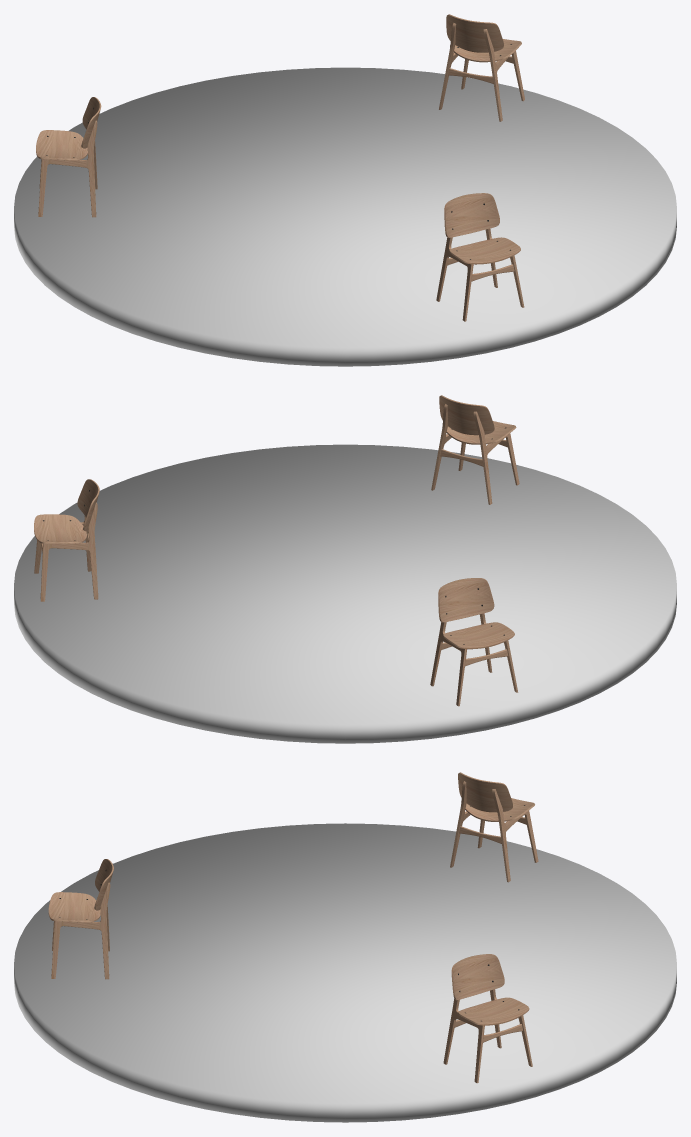
Rendered from design-chair-bake-2-platform.glb.
3 views of the same model, one above another, from view 1: azimuth 30°, elevation 25°; view 2: azimuth 150°, elevation 25°; view 3: azimuth 270°, elevation 25° (orthographic).
Parts seen in each view (by area): view 1: Circle.013, Plane.001, Plane.005, Plane.002, Cube.006, Plane, Cube.003, Cube, Plane.004, Plane.003; view 2: Circle.013, Plane.003, Cube.006, Cube, Plane.004, Plane.001, Plane.002, Cube.003, Plane, Plane.005; view 3: Circle.013, Plane.005, Cube.003, Plane, Plane.003, Plane.004, Cube, Cube.006, Plane.002, Plane.001.
Boxes of the visible parts, left/top/right/bottom form: Circle.013: left=14, top=67, right=676, bottom=366; Plane.001: left=444, top=193, right=499, bottom=237; Plane.005: left=446, top=14, right=503, bottom=52; Plane.002: left=36, top=130, right=87, bottom=160; Cube.006: left=439, top=23, right=524, bottom=121; Plane: left=449, top=237, right=520, bottom=264; Cube.003: left=38, top=120, right=97, bottom=217; Cube: left=436, top=228, right=524, bottom=321; Plane.004: left=450, top=39, right=521, bottom=62; Plane.003: left=81, top=97, right=101, bottom=148; Circle.013: left=14, top=444, right=676, bottom=743; Plane.003: left=438, top=578, right=494, bottom=622; Cube.006: left=34, top=502, right=98, bottom=601; Cube: left=431, top=404, right=519, bottom=504; Plane.004: left=34, top=514, right=86, bottom=543; Plane.001: left=439, top=395, right=494, bottom=435; Plane.002: left=443, top=622, right=514, bottom=649; Cube.003: left=430, top=613, right=518, bottom=706; Plane: left=446, top=421, right=516, bottom=444; Plane.005: left=77, top=479, right=99, bottom=531; Circle.013: left=14, top=823, right=676, bottom=1122; Plane.005: left=451, top=954, right=504, bottom=1000; Cube.003: left=450, top=781, right=538, bottom=882; Plane: left=48, top=892, right=100, bottom=922; Plane.003: left=458, top=772, right=512, bottom=812; Plane.004: left=457, top=997, right=529, bottom=1025; Cube: left=51, top=882, right=110, bottom=979; Cube.006: left=443, top=989, right=532, bottom=1083; Plane.002: left=465, top=798, right=534, bottom=821; Plane.001: left=94, top=859, right=113, bottom=910.
Size of the model in its own units: 4.89 by 0.9406 by 4.89.
3 materials, 1 textured.
